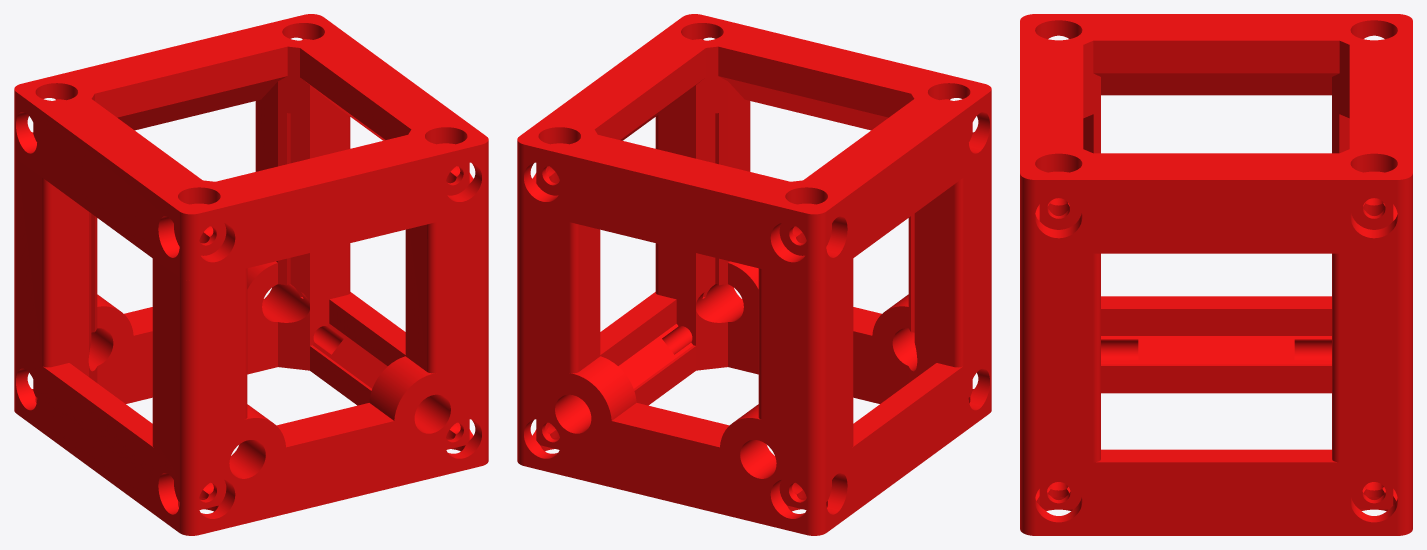
3 views of the same model, side by side, from view 1: azimuth 30°, elevation 25°; view 2: azimuth 150°, elevation 25°; view 3: azimuth 270°, elevation 25° (orthographic). The views are drawn at different scales.
Parts seen in each view (by area): view 1: Base Cube 1x1 V1; view 2: Base Cube 1x1 V1; view 3: Base Cube 1x1 V1.
Boxes of the visible parts, left/top/right/bottom form: Base Cube 1x1 V1: left=14, top=14, right=488, bottom=535; Base Cube 1x1 V1: left=517, top=14, right=991, bottom=535; Base Cube 1x1 V1: left=1020, top=14, right=1412, bottom=535.
Bounding box in the file's own units: 4.98 × 4.98 × 4.98.
